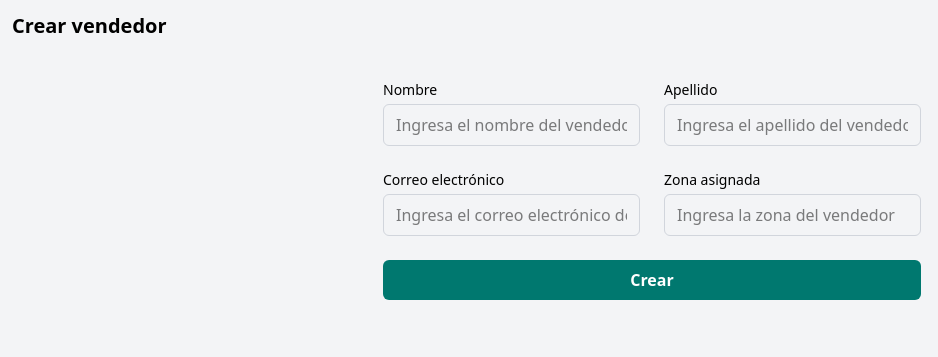
Test case: CreateSeller Page › cuando hay errores de validación › debería mostrar mensajes de error en campos vacíos
Click the button "Crear" at (652, 280), box x1=383 y1=260 x2=921 y2=300
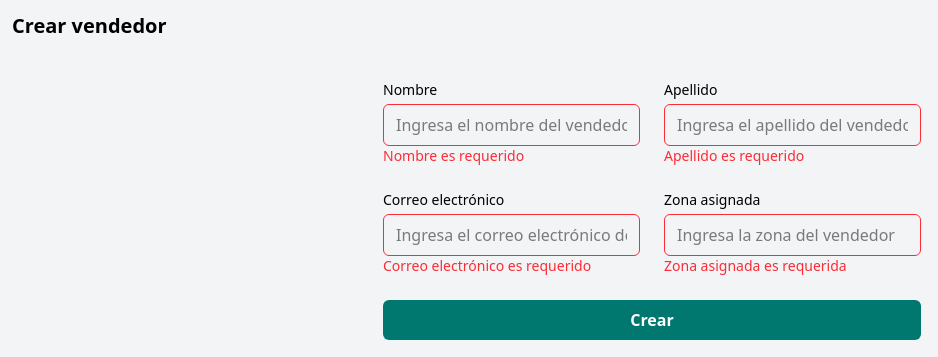
Check: the text "Nombre es requerido" is shown, box x1=383 y1=146 x2=524 y2=165
Check: the text "Apellido es requerido" is shown, box x1=664 y1=146 x2=804 y2=165
Check: the text "Correo electrónico es requerido" is shown, box x1=383 y1=256 x2=591 y2=275
